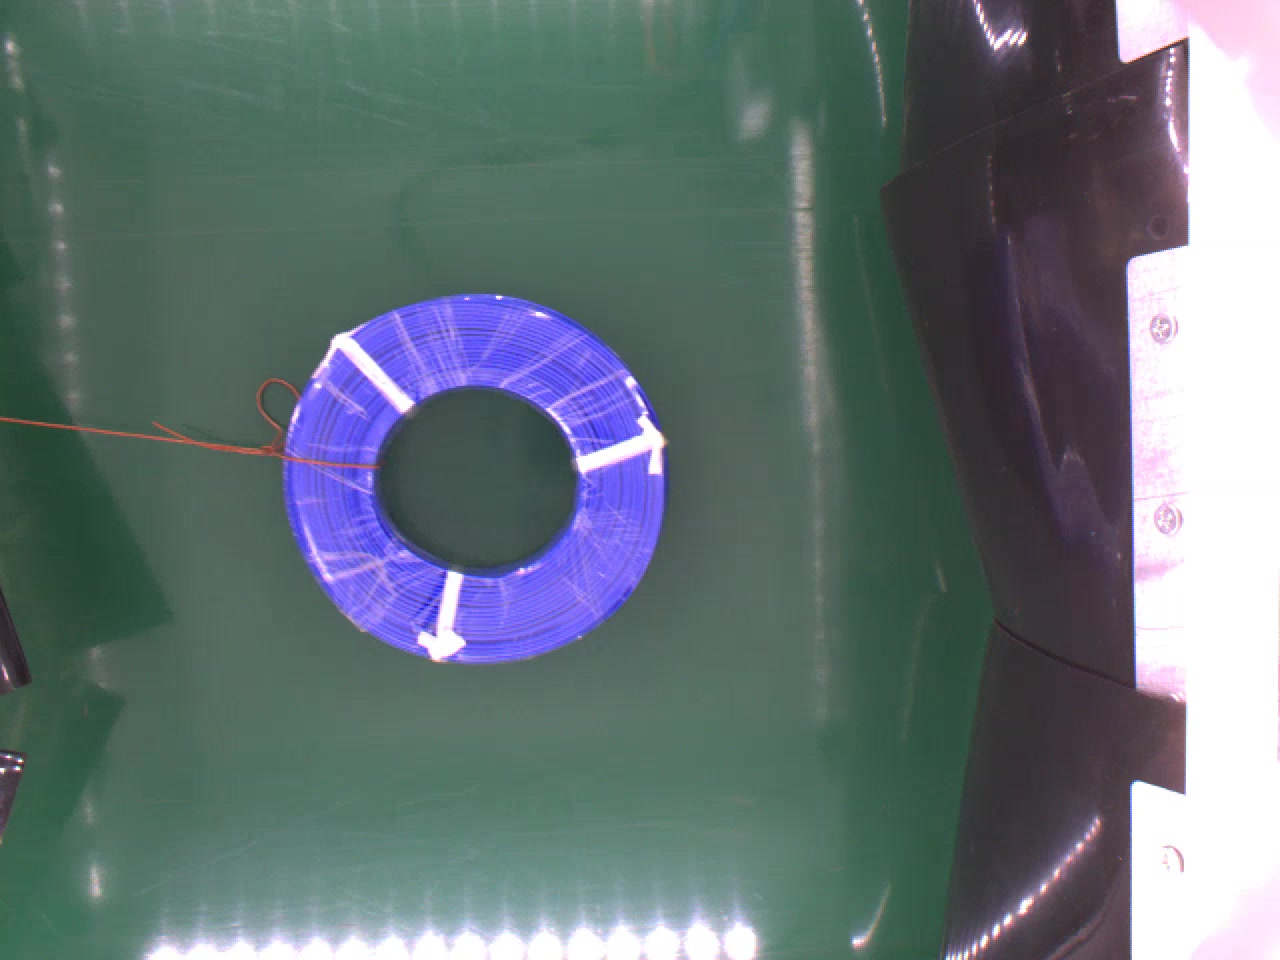blue: (280, 291, 667, 658)
